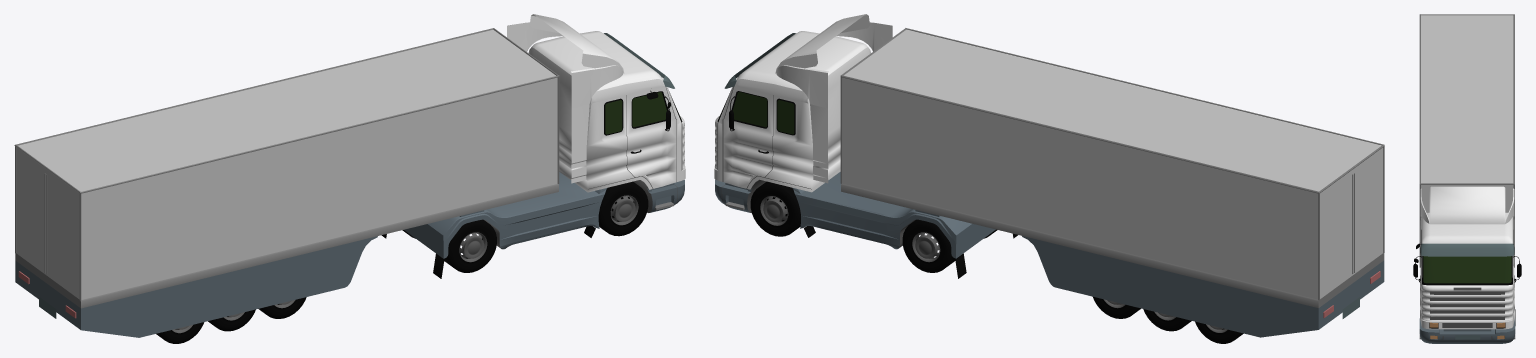
File: car2.gltf
3 views of the same model, side by side, from view 1: azimuth 30°, elevation 25°; view 2: azimuth 150°, elevation 25°; view 3: azimuth 270°, elevation 25° (orthographic). The views are drawn at different scales.
Visible parts, largest first — view 1: obj10~01___Default_materialGroup_10, obj9~??_20_materialGroup_9, obj8~_____19_materialGroup_8, obj0~02___Default_materialGroup_0, ~??_13_materialGroup_12, obj11~_____21_materialGroup_11, obj4~Material__32_materialGroup_4, obj13~_____21_materialGroup_13, obj6~_____21_materialGroup_6, obj7~??_13_materialGroup_7, obj5~??_8_materialGroup_5; view 2: obj10~01___Default_materialGroup_10, obj9~??_20_materialGroup_9, obj8~_____19_materialGroup_8, obj0~02___Default_materialGroup_0, ~??_13_materialGroup_12, obj19~_____21_materialGroup_16, obj4~Material__32_materialGroup_4, obj16~_____21_materialGroup_15, obj6~_____21_materialGroup_6, obj7~??_13_materialGroup_7, obj5~??_8_materialGroup_5; view 3: obj10~01___Default_materialGroup_10, obj8~_____19_materialGroup_8, obj4~Material__32_materialGroup_4, obj7~??_13_materialGroup_7, obj5~??_8_materialGroup_5, obj9~??_20_materialGroup_9, obj0~02___Default_materialGroup_0, obj6~_____21_materialGroup_6, obj2~_____2_materialGroup_2.
Part boxes in pixels (bbox=[...]): obj10~01___Default_materialGroup_10: bbox=[16, 29, 557, 299]; obj9~??_20_materialGroup_9: bbox=[15, 172, 684, 337]; obj8~_____19_materialGroup_8: bbox=[507, 14, 685, 192]; obj0~02___Default_materialGroup_0: bbox=[14, 28, 674, 308]; ~??_13_materialGroup_12: bbox=[172, 195, 638, 333]; obj11~_____21_materialGroup_11: bbox=[598, 181, 648, 236]; obj4~Material__32_materialGroup_4: bbox=[605, 92, 680, 134]; obj13~_____21_materialGroup_13: bbox=[444, 219, 496, 272]; obj6~_____21_materialGroup_6: bbox=[381, 90, 682, 278]; obj7~??_13_materialGroup_7: bbox=[484, 87, 682, 248]; obj5~??_8_materialGroup_5: bbox=[39, 33, 674, 318]; obj10~01___Default_materialGroup_10: bbox=[842, 29, 1383, 299]; obj9~??_20_materialGroup_9: bbox=[715, 172, 1384, 337]; obj8~_____19_materialGroup_8: bbox=[714, 14, 892, 192]; obj0~02___Default_materialGroup_0: bbox=[725, 28, 1384, 307]; ~??_13_materialGroup_12: bbox=[760, 196, 1227, 332]; obj19~_____21_materialGroup_16: bbox=[750, 181, 800, 236]; obj4~Material__32_materialGroup_4: bbox=[719, 92, 794, 134]; obj16~_____21_materialGroup_15: bbox=[902, 219, 955, 272]; obj6~_____21_materialGroup_6: bbox=[717, 91, 1017, 278]; obj7~??_13_materialGroup_7: bbox=[717, 87, 915, 247]; obj5~??_8_materialGroup_5: bbox=[724, 33, 1359, 318]; obj10~01___Default_materialGroup_10: bbox=[1421, 15, 1513, 229]; obj8~_____19_materialGroup_8: bbox=[1420, 186, 1514, 329]; obj4~Material__32_materialGroup_4: bbox=[1423, 256, 1511, 283]; obj7~??_13_materialGroup_7: bbox=[1421, 256, 1513, 339]; obj5~??_8_materialGroup_5: bbox=[1420, 243, 1514, 339]; obj9~??_20_materialGroup_9: bbox=[1419, 318, 1515, 343]; obj0~02___Default_materialGroup_0: bbox=[1419, 14, 1515, 339]; obj6~_____21_materialGroup_6: bbox=[1413, 230, 1521, 328]; obj2~_____2_materialGroup_2: bbox=[1429, 322, 1505, 338].
Size of the model in its own units: 13.38 by 3.95 by 2.81.
